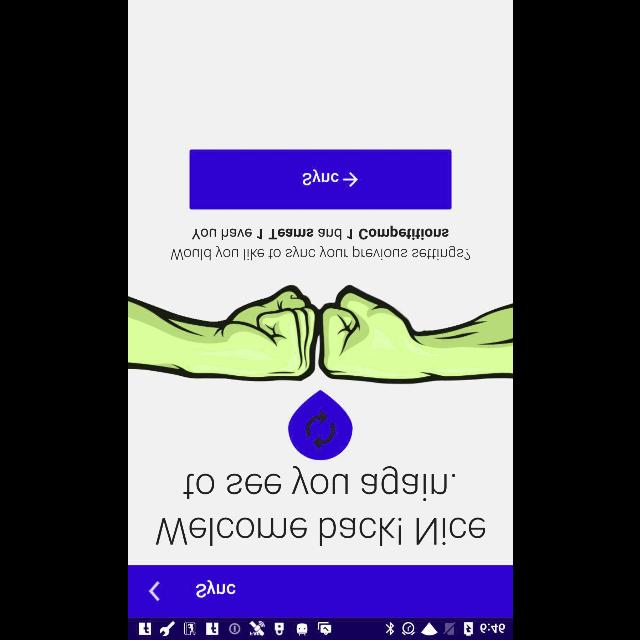icon: (148, 581, 160, 601)
image: (128, 284, 512, 384), (288, 390, 352, 460)
text: (156, 466, 484, 546), (170, 246, 470, 260), (192, 226, 448, 240), (195, 579, 235, 597)
textbutton: (189, 149, 451, 209)
toolbar: (128, 565, 512, 617)
uppertaskbar: (128, 617, 512, 639)
